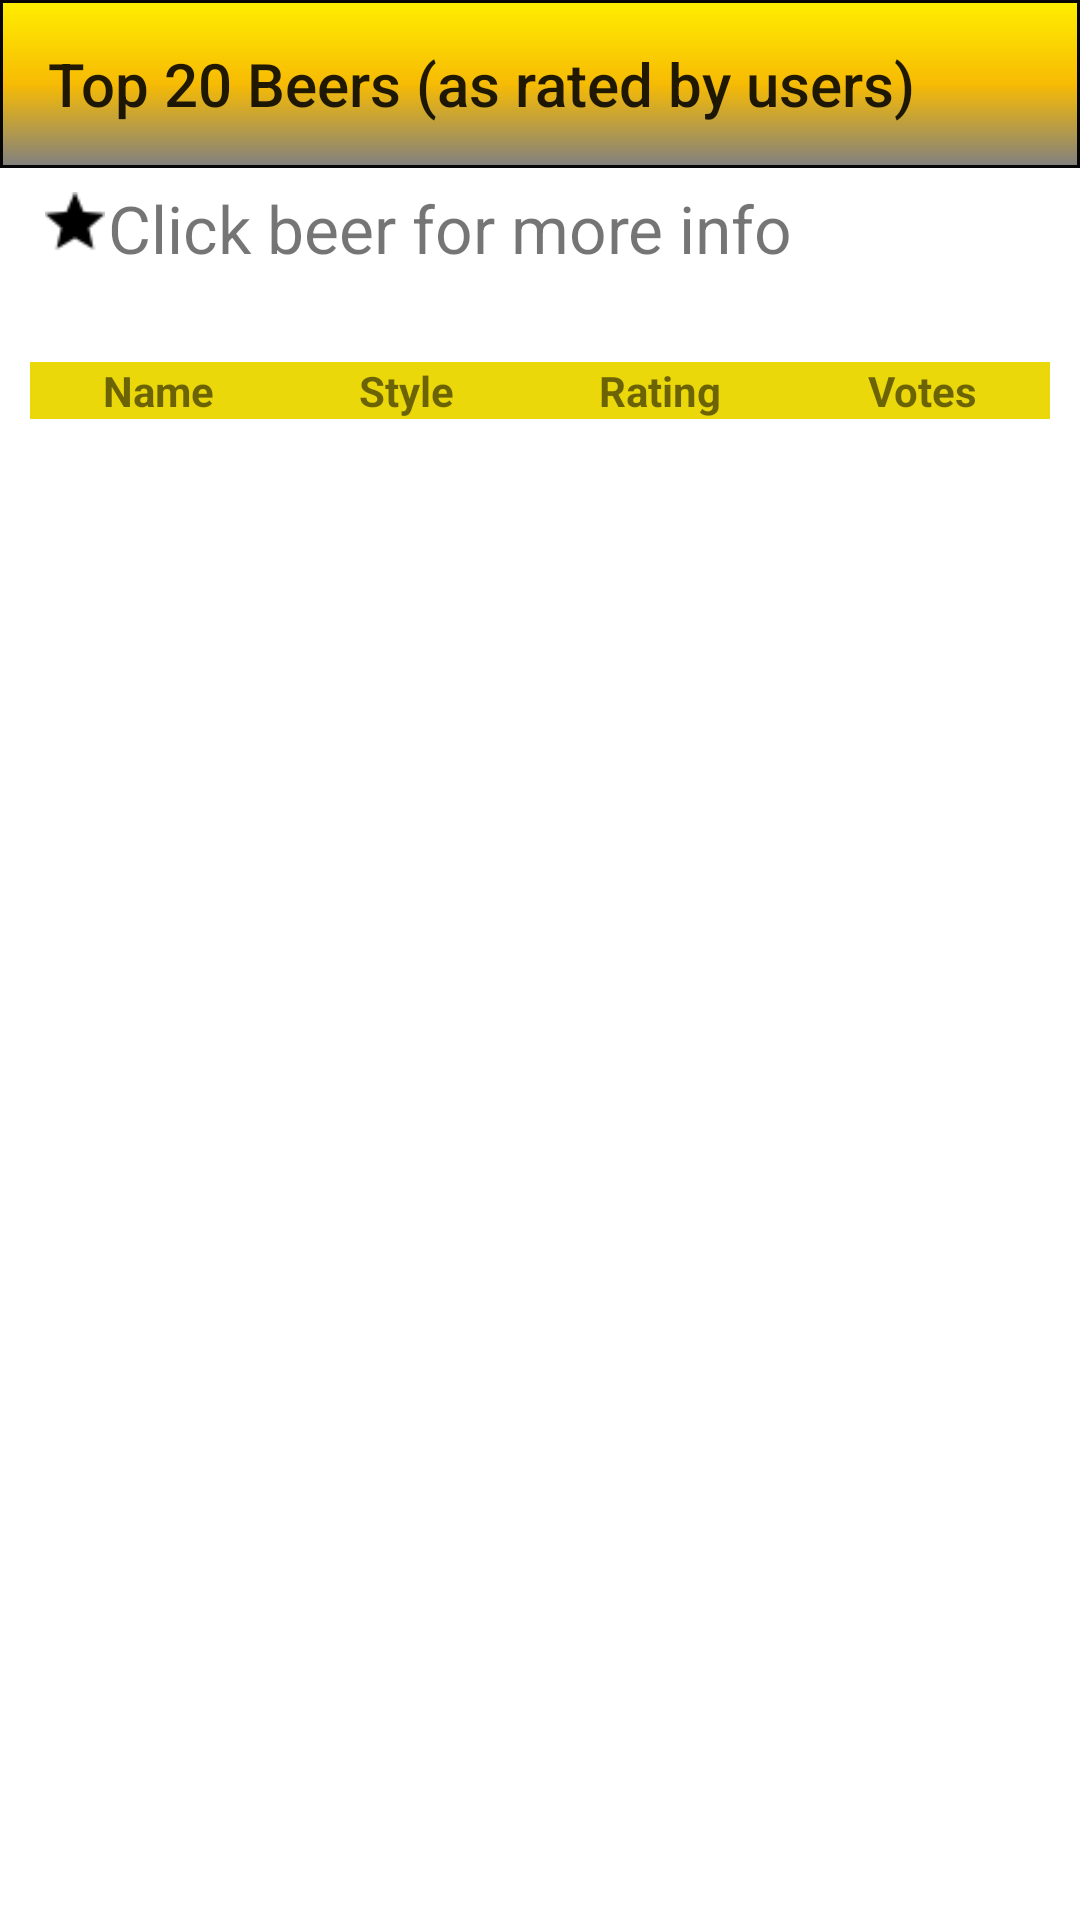

Named icons in this screenshot (1080px x 1920px) and their centers, [x,y]:
star: [75,221]
